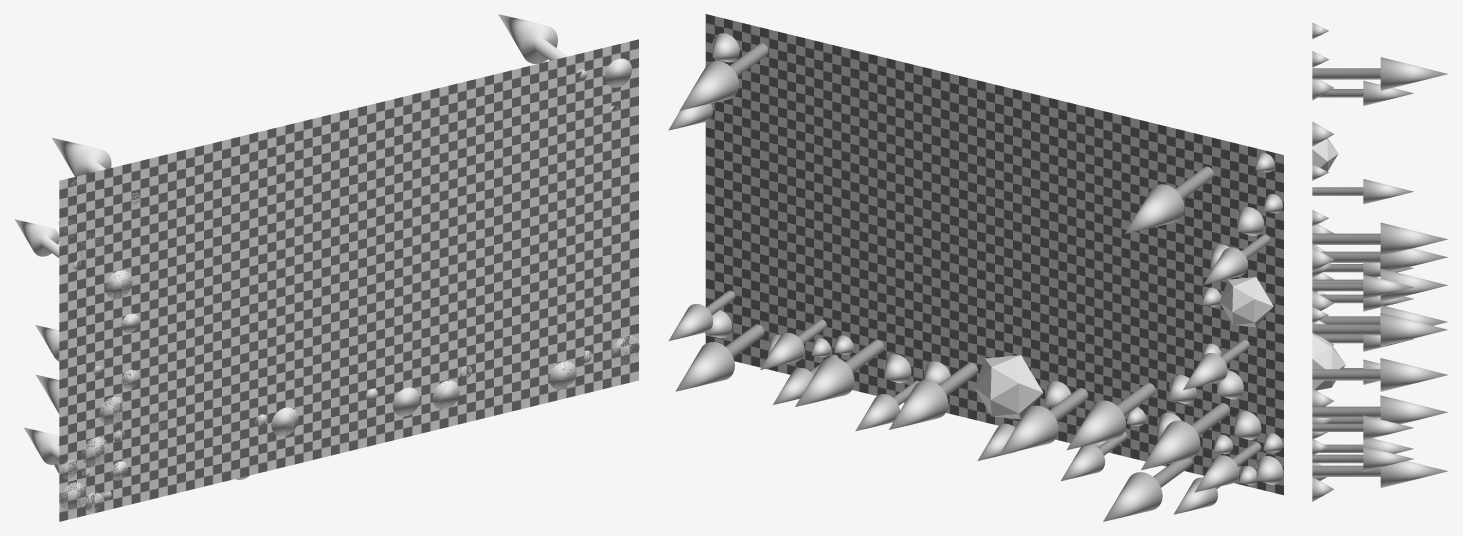
The model's file is forest6.dae.
3 renders of one model, left to right at view 1: azimuth 30°, elevation 25°; view 2: azimuth 150°, elevation 25°; view 3: azimuth 270°, elevation 25°, orthographic. The views are drawn at different scales.
Visible parts, largest first — view 1: Plane.005, Cone.236, Cone.266, Cone.269, Cone.262; view 2: Plane.005, Icosphere.004, Cone.233, Cone.277, Cone.261, Cone.236, Cone.208, Cone.239, Cone.241, Cone.266, Cone.271, Icosphere.005 (+10 smaller); view 3: Cone.239, Cone.266, Cone.236, Cone.241, Cone.233, Cone.208, Cone.261, Cone.079, Cone.067, Cone.280, Cone.230, Cone.277 (+16 smaller).
Boxes of the visible parts, x1,y1,x2,y2 form: Plane.005: [59, 39, 638, 521]; Cone.236: [498, 14, 587, 81]; Cone.266: [52, 137, 141, 204]; Cone.269: [14, 219, 81, 269]; Cone.262: [23, 427, 90, 477]; Plane.005: [705, 14, 1283, 495]; Icosphere.004: [974, 355, 1043, 419]; Cone.233: [795, 339, 884, 406]; Cone.277: [1066, 383, 1155, 450]; Cone.261: [1141, 403, 1229, 470]; Cone.236: [679, 43, 768, 110]; Cone.208: [675, 324, 764, 391]; Cone.239: [889, 362, 977, 429]; Cone.241: [999, 388, 1088, 455]; Cone.266: [1125, 166, 1213, 233]; Cone.271: [1103, 458, 1192, 521]; Icosphere.005: [1220, 277, 1273, 327]; Cone.239: [1312, 358, 1447, 391]; Cone.266: [1312, 57, 1447, 90]; Cone.236: [1312, 222, 1447, 256]; Cone.241: [1312, 313, 1447, 346]; Cone.233: [1312, 395, 1447, 424]; Cone.208: [1312, 461, 1447, 487]; Cone.261: [1321, 248, 1447, 273]; Cone.079: [1312, 446, 1413, 471]; Cone.067: [1312, 274, 1413, 299]; Cone.280: [1312, 179, 1413, 204]; Cone.230: [1312, 415, 1413, 440]; Cone.277: [1312, 268, 1447, 301].
Size of the model in its own units: 64.07 by 16 by 36.88.
